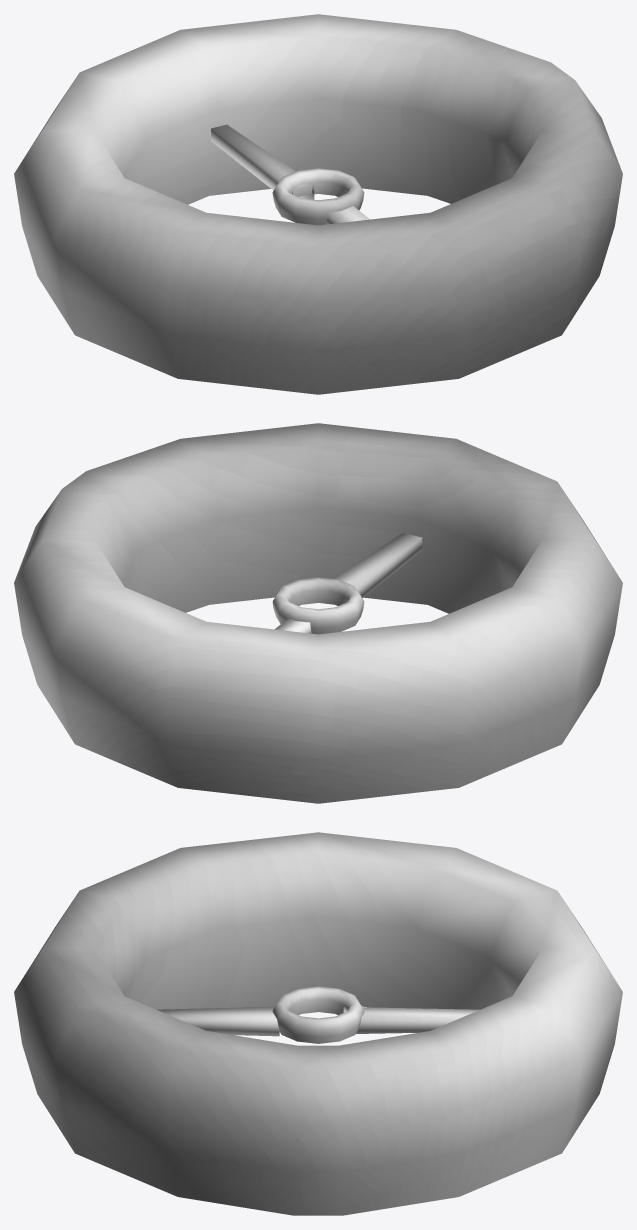
Rendered from DoughCutter.fbx.
3 views of the same model, one above another, from view 1: azimuth 30°, elevation 25°; view 2: azimuth 150°, elevation 25°; view 3: azimuth 270°, elevation 25° (orthographic).
Visible parts, largest first — view 1: Maki.002; view 2: Maki.002; view 3: Maki.002.
Boxes of the visible parts, x1,y1,x2,y2 form: Maki.002: (14, 14, 622, 394); Maki.002: (14, 423, 622, 803); Maki.002: (14, 832, 622, 1215).
Size of the model in its own units: 25.49 by 6.63 by 25.2.
